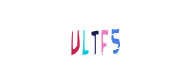5: (63, 0, 143, 80)
F: (57, 0, 137, 80)
L: (53, 0, 133, 80)
T: (55, 0, 135, 80)
U: (35, 0, 115, 80)
